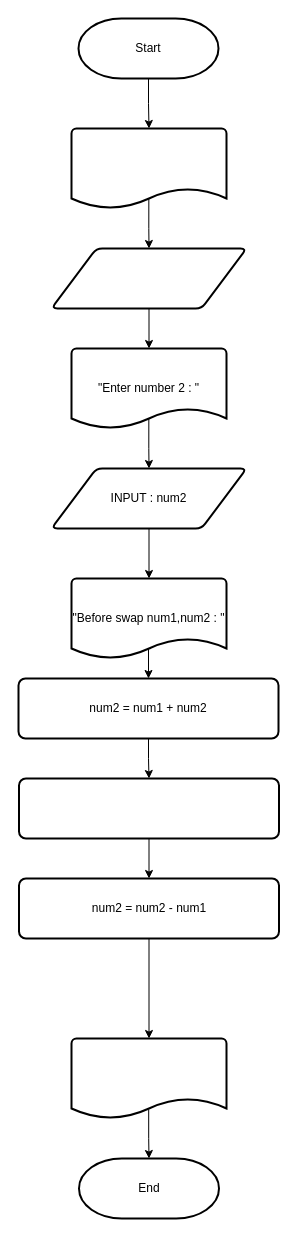
The diagram is 297 pixels wide and 1236 high, and some of its shapes have lost their labels. The shapes that lost their labels are listed below. From the top down, each one's centre as x and y in pixels, then its label:
point (148, 168): "Enter number 1 : "
point (148, 278): INPUT : num1
point (149, 808): num1 = num2 - num1
point (148, 1078): "Alter swap num1 , num2 "
